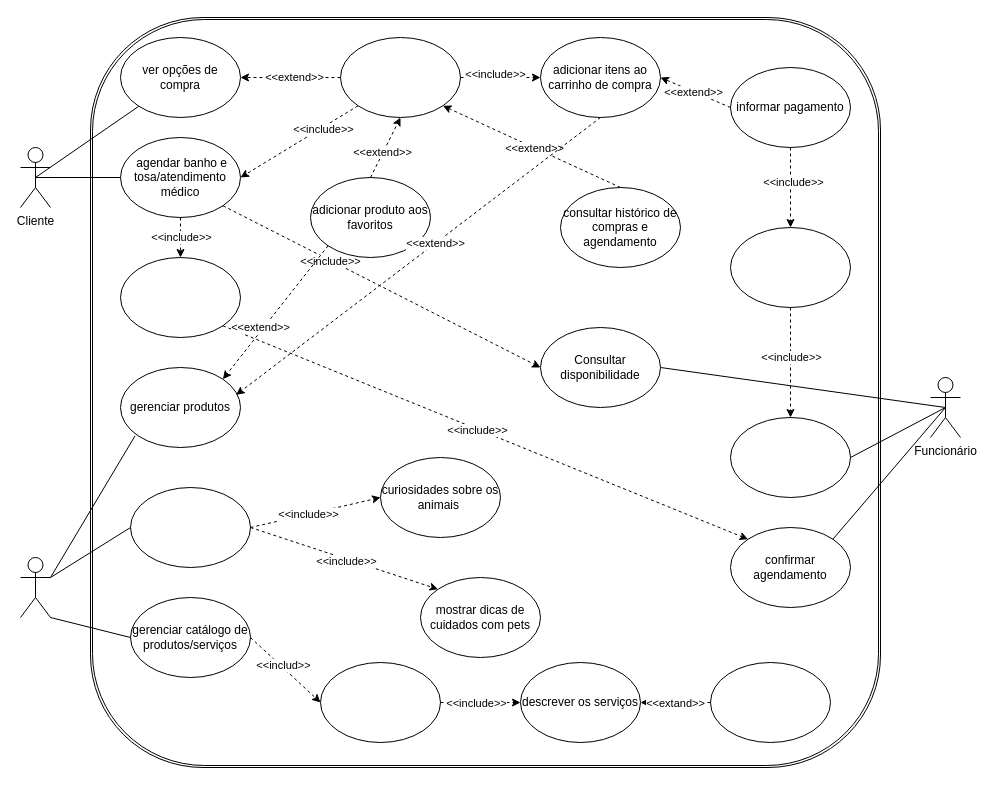
Some shapes in this 994 by 785 pixel diagram are drawn without their labels. Here are the shapes that lost their labels. From the top down, the centre of each, then its label:
(400,77): fazer login/cadastro
(790,267): informar endereço
(180,297): preencher formulário para agendar consulta
(790,457): confirmar pagamento
(190,527): editar o blog
(35,587): ADM
(380,702): listar os serviços/produtos disponíveis
(770,702): "fazer agendamento/ comprar produto"
